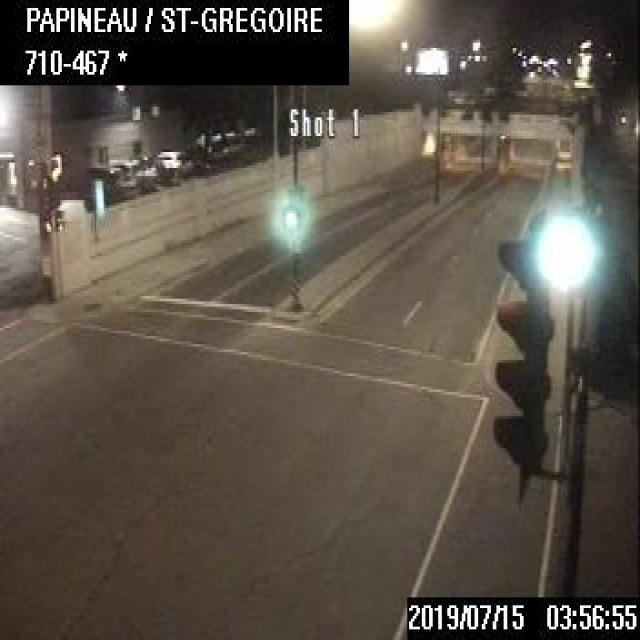vehicle: (155, 147, 191, 176)
